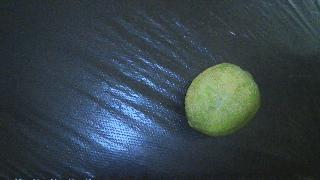DESECHO: (185, 63, 261, 137)
